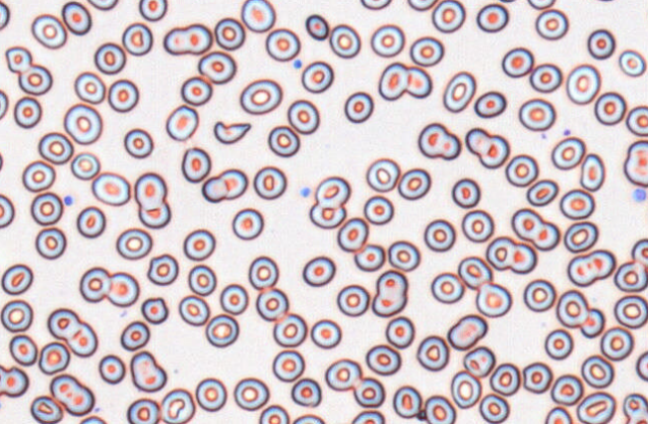PLT: (633, 188, 648, 203), (299, 185, 313, 200), (62, 194, 73, 207), (293, 59, 303, 69)
RBC: (47, 307, 97, 357), (511, 207, 560, 251), (485, 235, 537, 274), (49, 373, 94, 416), (566, 248, 615, 287), (464, 126, 509, 168), (371, 269, 407, 317), (417, 122, 461, 160), (163, 22, 212, 55), (63, 103, 102, 144), (201, 168, 248, 202), (129, 350, 166, 392), (239, 78, 282, 114), (446, 313, 487, 350), (565, 63, 601, 104), (442, 70, 476, 113), (91, 171, 130, 206), (555, 289, 589, 328), (197, 50, 236, 84), (475, 281, 511, 317), (31, 13, 67, 49), (576, 391, 616, 423), (160, 387, 195, 423), (518, 97, 555, 131), (134, 172, 167, 210), (324, 358, 362, 391), (272, 312, 307, 347), (365, 157, 400, 192), (233, 376, 269, 410), (115, 227, 152, 260), (165, 104, 198, 141), (416, 334, 449, 371), (457, 255, 492, 289), (613, 294, 648, 328), (600, 326, 634, 361), (550, 136, 585, 170), (265, 27, 300, 61), (450, 370, 481, 408), (205, 313, 239, 347), (580, 354, 614, 388), (370, 23, 404, 57), (106, 271, 139, 306), (563, 220, 598, 253), (38, 131, 73, 164), (314, 175, 350, 207), (365, 343, 401, 375), (623, 140, 648, 186), (378, 62, 408, 100), (505, 153, 538, 187), (255, 287, 288, 321), (397, 167, 431, 200), (21, 159, 55, 192), (431, 0, 465, 33), (253, 165, 286, 199), (30, 191, 63, 225), (336, 217, 368, 252), (195, 377, 227, 412), (240, 0, 275, 32), (287, 99, 319, 134), (79, 266, 110, 302), (559, 188, 595, 219), (181, 146, 211, 183), (0, 299, 33, 332), (461, 209, 494, 242), (613, 260, 647, 292), (18, 63, 52, 95), (38, 341, 70, 375), (430, 271, 464, 303), (523, 278, 555, 312), (107, 78, 139, 112), (594, 91, 626, 125), (248, 255, 279, 290), (409, 35, 444, 66), (329, 23, 360, 58), (462, 345, 495, 377), (183, 228, 215, 261), (550, 373, 583, 405), (73, 71, 105, 104), (231, 207, 263, 240), (272, 349, 304, 382), (387, 239, 420, 271), (93, 42, 126, 74), (301, 60, 333, 93), (336, 284, 369, 316), (423, 218, 455, 251), (34, 226, 66, 259), (213, 17, 245, 50), (267, 125, 300, 157), (535, 8, 568, 40), (489, 362, 520, 396), (121, 22, 152, 56), (1, 263, 33, 295), (302, 255, 335, 286), (352, 376, 385, 407), (501, 46, 534, 77), (529, 62, 562, 93), (61, 1, 91, 35), (579, 152, 605, 191), (178, 294, 209, 326), (180, 75, 212, 106), (392, 385, 422, 418), (0, 363, 29, 397), (309, 202, 345, 229), (310, 318, 341, 349), (522, 361, 552, 393), (30, 394, 63, 423), (8, 333, 37, 366), (385, 315, 414, 348), (76, 205, 105, 238), (476, 3, 509, 32), (120, 320, 150, 351), (478, 393, 509, 423), (290, 377, 321, 407), (123, 127, 153, 158), (363, 194, 393, 225), (187, 264, 216, 296), (219, 283, 248, 315), (544, 328, 573, 360), (423, 394, 455, 423), (13, 96, 42, 128), (344, 91, 373, 123), (473, 90, 506, 118), (451, 177, 480, 208), (353, 243, 385, 271), (526, 178, 558, 206), (137, 201, 170, 228), (405, 65, 432, 98), (126, 397, 160, 423), (70, 151, 100, 180), (587, 28, 615, 59), (98, 354, 125, 384), (579, 307, 605, 338), (622, 392, 648, 423), (4, 45, 32, 73), (140, 296, 168, 324), (618, 49, 646, 77), (625, 105, 648, 136), (305, 13, 329, 40), (138, 0, 167, 21), (258, 404, 289, 423), (631, 237, 648, 269), (0, 192, 14, 228), (544, 406, 572, 423), (350, 409, 384, 423), (635, 350, 647, 381), (406, 0, 437, 11), (292, 413, 325, 423), (86, 0, 118, 10), (359, 0, 391, 10), (0, 0, 9, 30), (526, 0, 556, 9), (78, 414, 107, 423), (0, 88, 8, 120), (644, 200, 648, 231), (0, 147, 4, 175), (645, 0, 648, 29), (586, 0, 621, 2), (496, 0, 519, 3)
Schistocyte: (146, 253, 179, 287), (214, 121, 252, 146)
